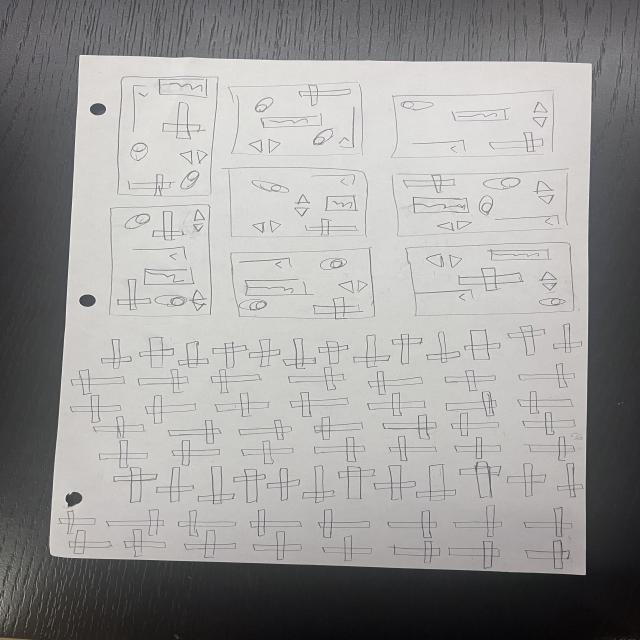Command: (301, 171, 362, 191), (126, 82, 150, 132), (411, 290, 482, 306), (406, 140, 469, 158), (495, 214, 565, 230), (126, 247, 191, 263), (236, 256, 295, 272), (337, 104, 357, 150)
IncDec: (532, 177, 558, 206), (424, 251, 464, 269), (246, 137, 282, 155), (336, 278, 371, 296), (536, 268, 562, 292), (528, 100, 550, 128), (248, 218, 286, 234), (432, 218, 474, 232), (189, 288, 208, 314), (181, 148, 208, 166), (292, 193, 312, 217), (192, 208, 206, 236)
Slider: (177, 509, 246, 537), (379, 508, 439, 540), (243, 506, 306, 536), (512, 361, 580, 388), (312, 509, 379, 536), (446, 540, 508, 569), (116, 526, 170, 558), (195, 466, 240, 504), (453, 503, 504, 536), (114, 464, 156, 504), (253, 532, 308, 562), (106, 510, 172, 535), (160, 101, 202, 140), (320, 536, 378, 564), (183, 530, 241, 558), (312, 436, 371, 463), (139, 396, 200, 422), (520, 507, 574, 536), (154, 466, 195, 504), (71, 367, 128, 394), (456, 268, 520, 292), (237, 438, 296, 464), (521, 436, 580, 462), (383, 434, 437, 462), (388, 539, 442, 567), (525, 540, 575, 570), (282, 391, 350, 413), (166, 439, 221, 466), (98, 440, 151, 468), (300, 467, 339, 505), (336, 464, 376, 501), (513, 390, 579, 412), (461, 462, 503, 496), (159, 420, 223, 442), (95, 335, 132, 373), (520, 411, 578, 435), (484, 131, 547, 153), (440, 368, 500, 391), (63, 531, 116, 557), (373, 466, 416, 498), (419, 464, 457, 500), (214, 392, 267, 417), (288, 368, 351, 389), (352, 333, 392, 366), (93, 415, 148, 439), (139, 372, 193, 396), (367, 394, 425, 416), (309, 416, 367, 438), (427, 328, 462, 364), (238, 419, 298, 440), (139, 336, 174, 371), (266, 467, 302, 501), (452, 435, 505, 458), (234, 465, 266, 503), (366, 370, 426, 390), (212, 338, 247, 372), (449, 413, 502, 435), (304, 216, 362, 236), (211, 370, 269, 390), (510, 462, 546, 494), (506, 325, 544, 355), (384, 416, 440, 436), (115, 280, 151, 311), (128, 171, 174, 195), (71, 396, 117, 420), (555, 461, 584, 499), (249, 338, 285, 368), (466, 328, 498, 361), (286, 338, 320, 369), (296, 86, 354, 104), (391, 332, 423, 364), (313, 300, 364, 320), (399, 176, 458, 193), (56, 508, 93, 535), (180, 335, 207, 371), (156, 209, 184, 243), (446, 396, 501, 412), (554, 324, 581, 354), (319, 339, 350, 365)
Text: (238, 280, 314, 298), (409, 196, 472, 216), (446, 106, 512, 124), (156, 78, 210, 100), (263, 112, 322, 132), (486, 247, 554, 264), (139, 268, 196, 286), (320, 194, 360, 212)
Toggle: (250, 179, 294, 198), (480, 176, 525, 193), (154, 292, 189, 310), (316, 257, 352, 274), (178, 168, 202, 193), (250, 95, 278, 116), (396, 97, 435, 112), (123, 213, 153, 230), (237, 298, 272, 312), (126, 142, 149, 163), (314, 127, 334, 149), (536, 297, 566, 309), (478, 196, 493, 217)
